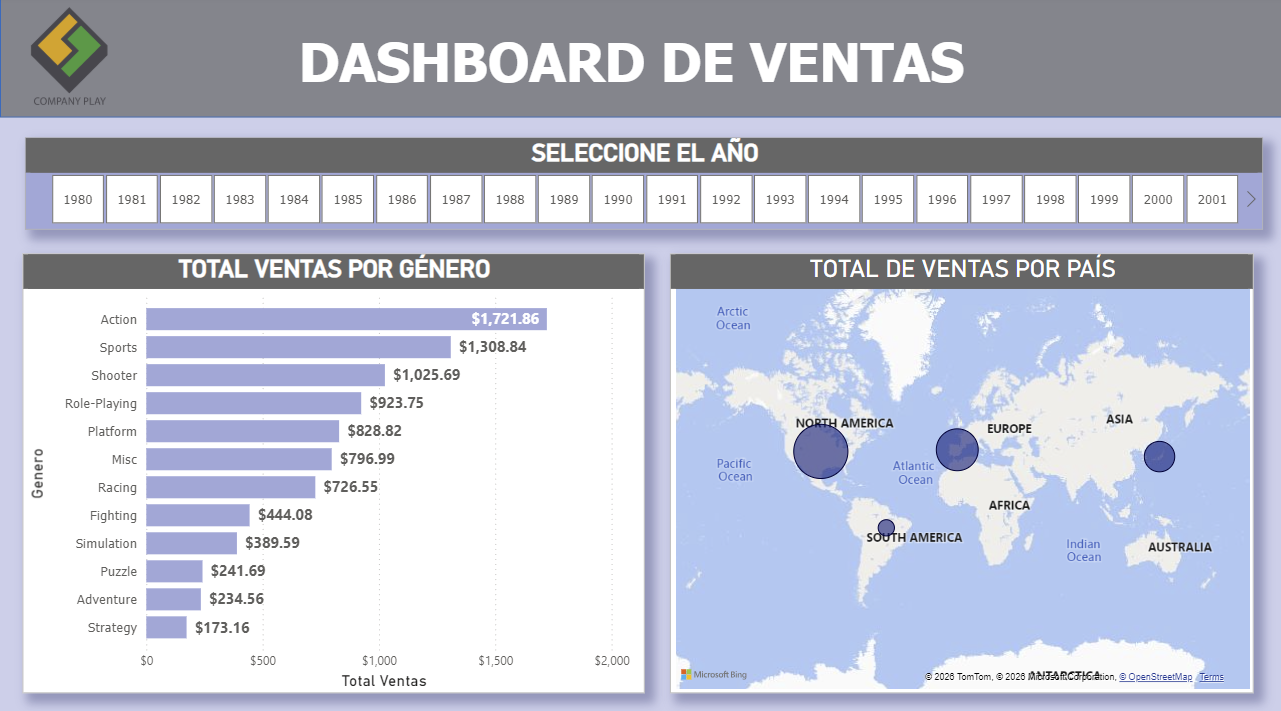

The dashboard page shown, as its layout file describes it:
{"tool":"powerbi","page":{"name":"Detalles","canvas":[1280,720],"ordinal":1},"visuals":[{"type":"shape","box":[0,0,1280,121],"z":0},{"type":"image","box":[0,0,137.3,121],"z":1000},{"type":"textbox","box":[292.1,26.8,698.2,76.8],"z":2000},{"type":"barChart","title":"TOTAL VENTAS POR GÉNERO","fields":{"Category":["Ventas Videojuegos.Genero"],"Y":["Medidas.Total Ventas"]},"box":[22.1,256,619.1,437.5],"z":3000},{"type":"map","title":"TOTAL DE VENTAS POR PAÍS ","fields":{"Category":["Ventas Videojuegos.Pais"],"Size":["Medidas.Total Ventas"]},"box":[666.8,256,580.7,437.5],"z":4000},{"type":"slicer","title":"SELECCIONE EL AÑO","fields":{"Values":["Ventas Videojuegos.Año"]},"box":[24.4,140.8,1232.3,91.9],"z":5000}]}

Visuals, with their boxes in screenshot pixels (x1, y1, x2, y2), scaled from the page's 1280x720 canvas onto the 1281x711 screenshot:
shape: pyautogui.locateOnScreen(0, 0, 1280, 119)
image: pyautogui.locateOnScreen(0, 0, 137, 119)
textbox: pyautogui.locateOnScreen(292, 26, 991, 102)
"TOTAL VENTAS POR GÉNERO" barChart: pyautogui.locateOnScreen(22, 253, 642, 685)
"TOTAL DE VENTAS POR PAÍS " map: pyautogui.locateOnScreen(667, 253, 1248, 685)
"SELECCIONE EL AÑO" slicer: pyautogui.locateOnScreen(24, 139, 1258, 230)
